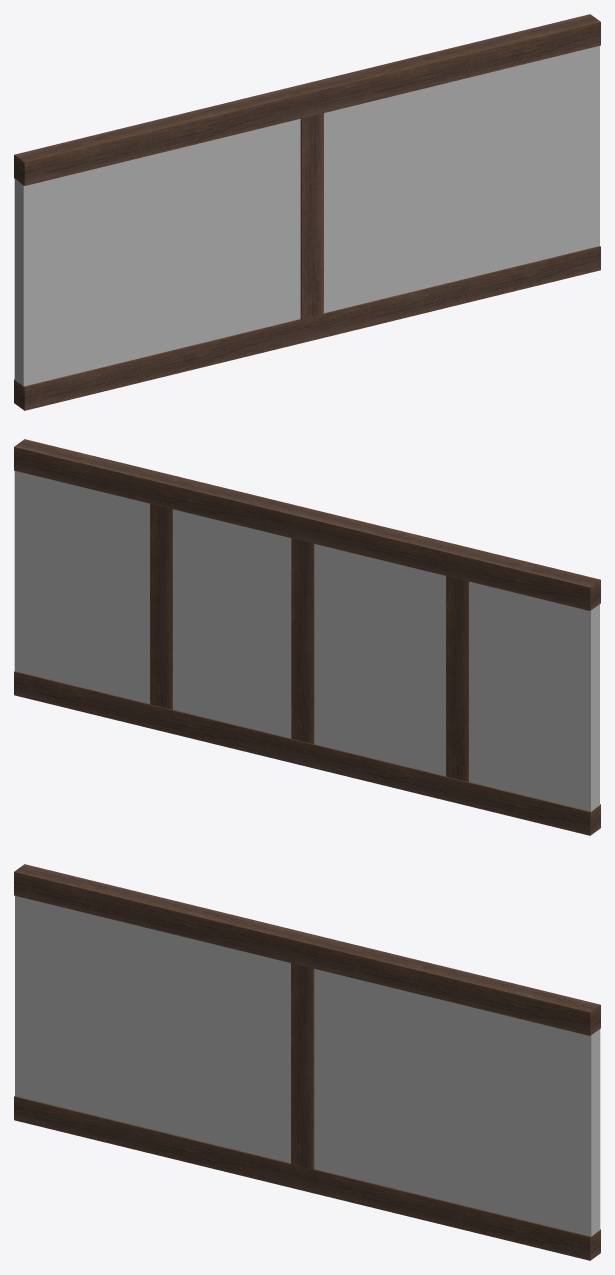
Rendered from yane_frame_side_2t_b.fbx.
3 views of the same model, one above another, from view 1: azimuth 30°, elevation 25°; view 2: azimuth 150°, elevation 25°; view 3: azimuth 330°, elevation 25° (orthographic).
Visible parts, largest first — view 1: yane_frame_side_2t_b; view 2: yane_frame_side_2t_b; view 3: yane_frame_side_2t_b.
Part boxes in pixels (<box>): yane_frame_side_2t_b: <box>14,14,600,410</box>; yane_frame_side_2t_b: <box>14,439,600,835</box>; yane_frame_side_2t_b: <box>14,864,600,1260</box>.
Size of the model in its own units: 440 by 181 by 14.1.
